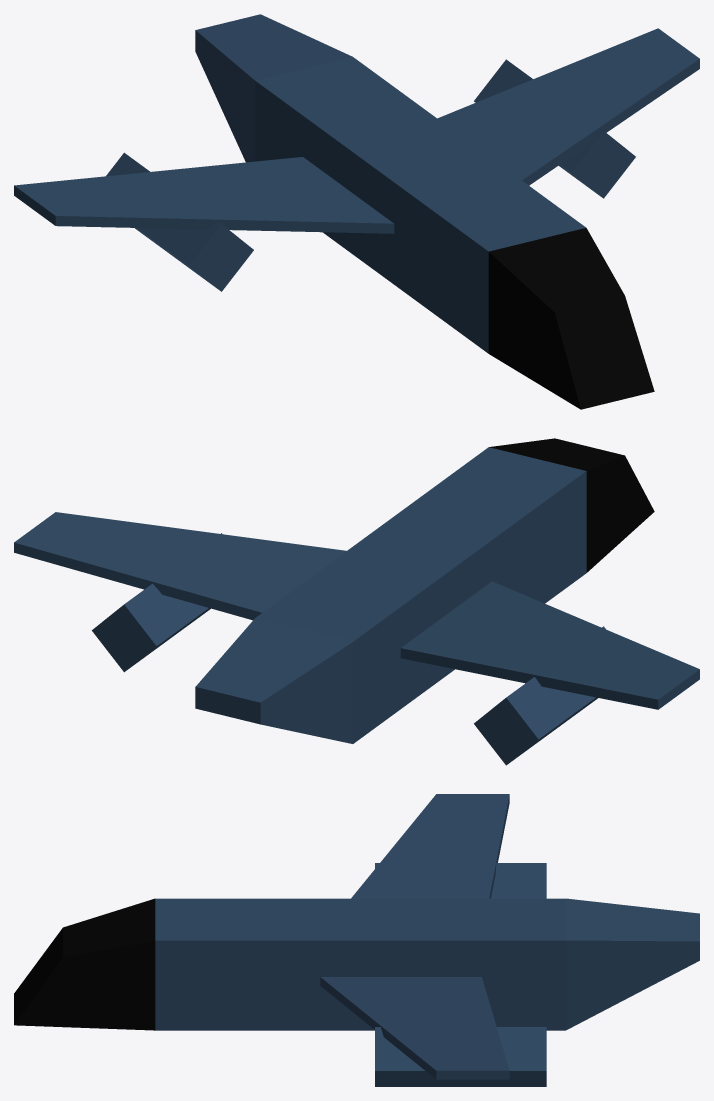
3 renders of one model, top to bottom at view 1: azimuth 30°, elevation 25°; view 2: azimuth 150°, elevation 25°; view 3: azimuth 270°, elevation 25°, orthographic. The views are drawn at different scales.
Visible parts, largest first — view 1: Cube, Cube.001, Cube.002; view 2: Cube, Cube.001, Cube.002; view 3: Cube, Cube.001, Cube.002.
Part boxes in pixels (x1,y1,x2,y2): Cube: (195, 14, 654, 409); Cube.001: (14, 28, 699, 233); Cube.002: (106, 59, 635, 291); Cube: (195, 438, 654, 743); Cube.001: (14, 512, 699, 709); Cube.002: (92, 533, 605, 765); Cube: (14, 898, 699, 1030); Cube.001: (320, 794, 509, 1079); Cube.002: (375, 863, 546, 1086).
Bounding box in the file's own units: 1318 × 200 × 1381.
